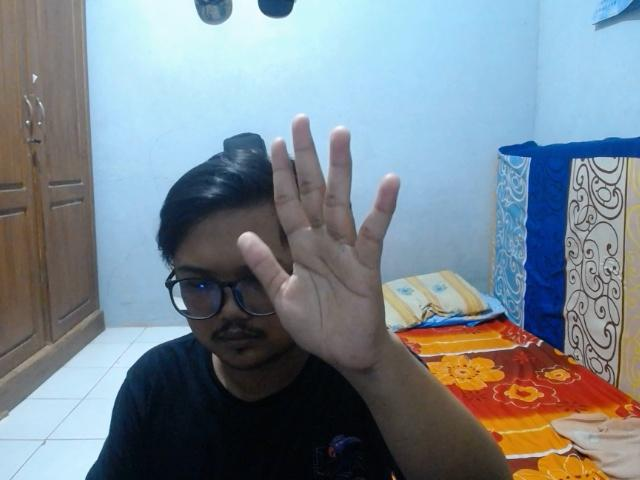Release: (234, 110, 408, 377)
